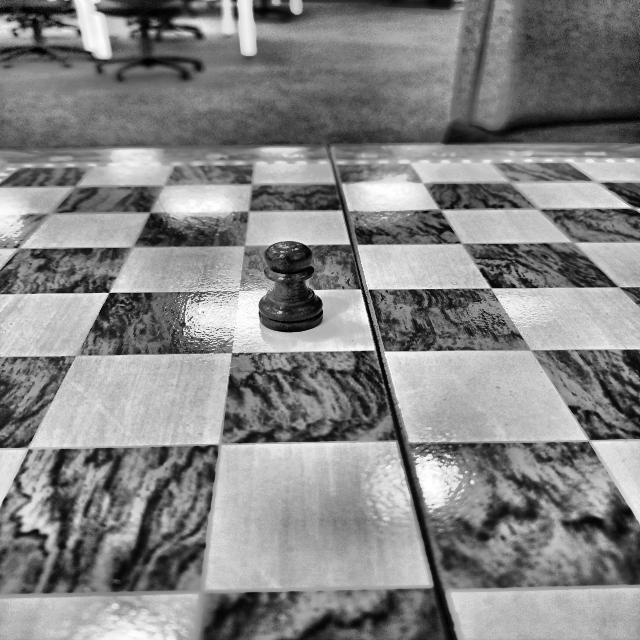black-pawn: (258, 242, 324, 332)
